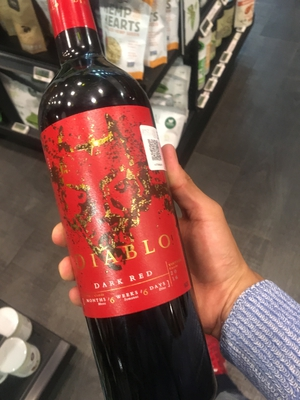diablo dark red: (32, 17, 216, 385)
